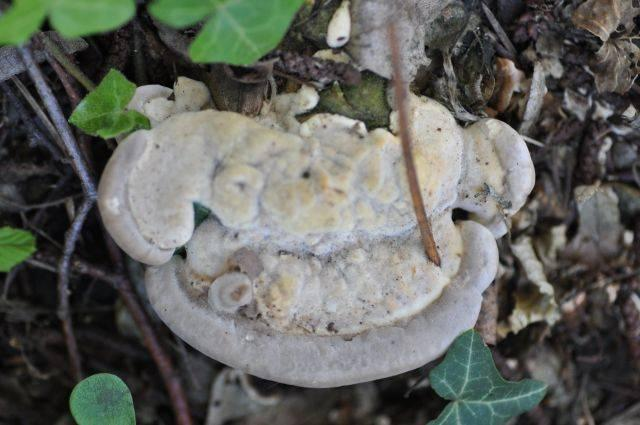Non-edible Mushroom: (95, 68, 535, 389)
